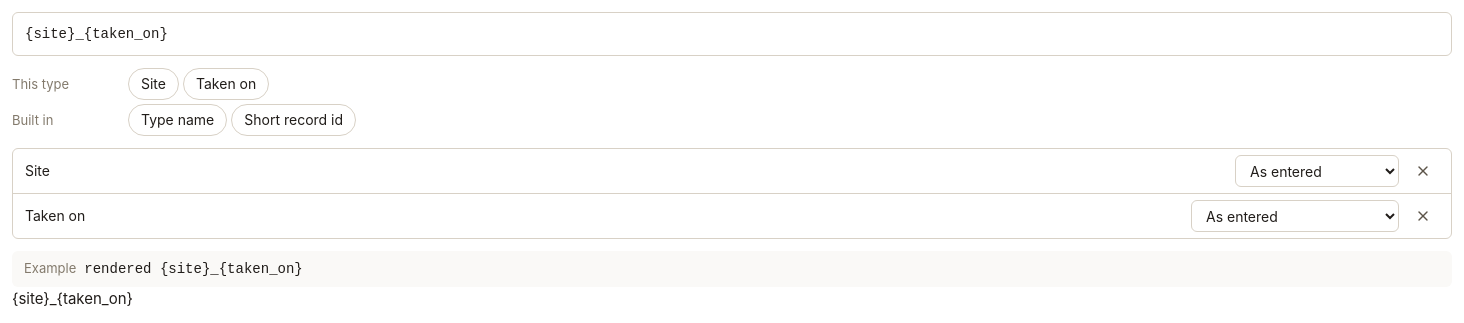
Test: TemplateBuilder › takes a value out with the separator beside it
The image size is (1464, 323).
Click the button named "Remove Taken on". click: (1423, 216)
box: 1407,200 -> 1439,232
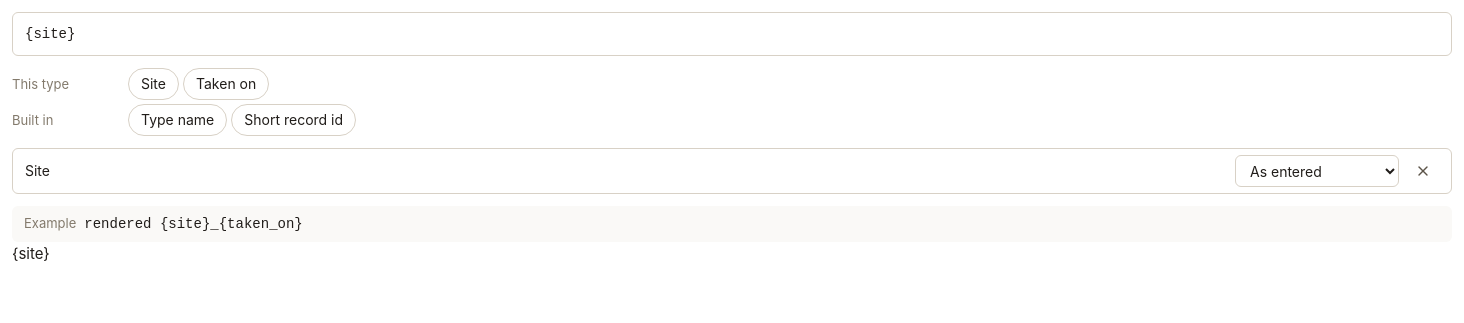
Now the text with test id "value" reads "{site}", box 12,244 -> 50,263
